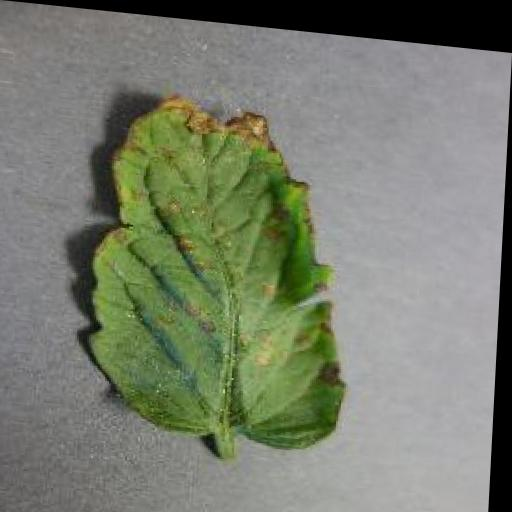Bacterial Spot: (61, 68, 379, 475)
